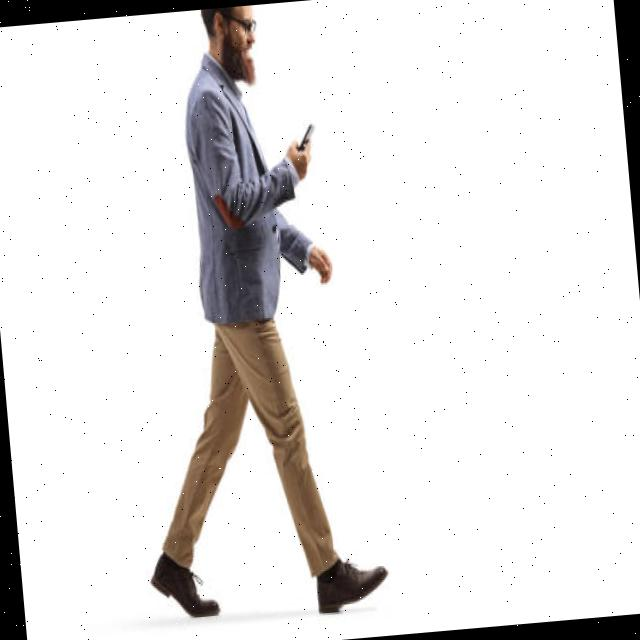Person: (102, 0, 390, 625)
